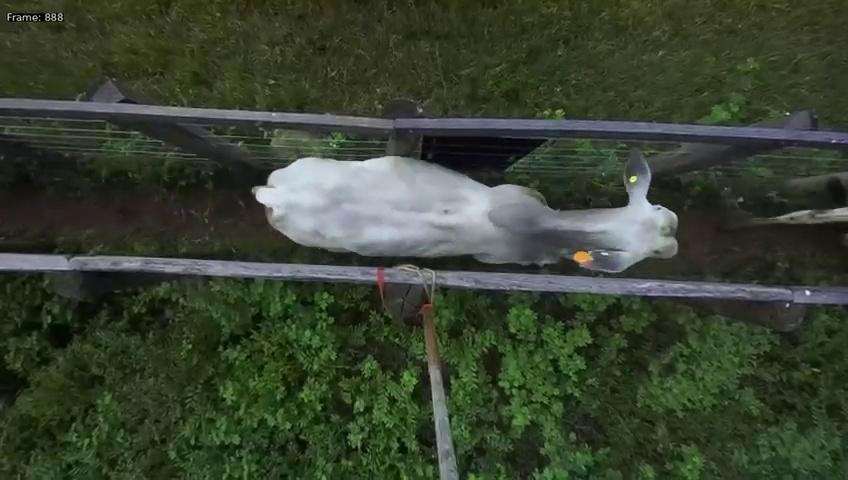cattle: (249, 143, 680, 275)
